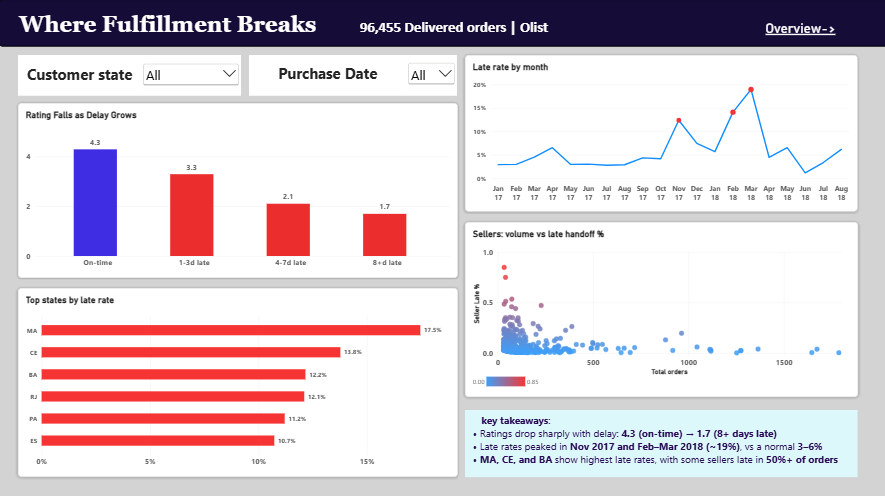

What the dashboard file says about the page in this screenshot:
{"tool":"powerbi","page":{"name":"Where, when and who","canvas":[1920,1080],"ordinal":1},"visuals":[{"type":"textbox","box":[0,0,1920,103],"z":0},{"type":"slicer","fields":{"Values":["orders.customer_state"]},"box":[306.3,120,216.2,87.5],"z":0,"group":"g1"},{"type":"actionButton","title":"Overview->","box":[1609.2,41,244.1,45],"z":1000},{"type":"textbox","box":[40,120,266.3,87.5],"z":1000,"group":"g1"},{"type":"clusteredColumnChart","title":"Rating Falls as Delay Grows","fields":{"Category":["orders.late_bucket"],"Y":["orders.Avg Rating"]},"box":[40,225,950,377.5],"z":2000},{"type":"lineChart","title":"Late rate by month","fields":{"Category":["orders.YearMonth"],"Y":["orders.Late Rate"]},"box":[1007.5,120,847.5,337.5],"z":3000},{"type":"clusteredBarChart","title":"Top states by late rate","fields":{"Category":["orders.customer_state"],"Y":["orders.Late Rate"]},"box":[40,625,950,407.5],"z":4000},{"type":"scatterChart","title":"Sellers: volume vs late handoff %","fields":{"Category":["orders.seller_id"],"X":["orders.Total orders"],"Y":["orders.Seller Late %"]},"box":[1006.6,481.7,848.9,378],"z":5000},{"type":"group","id":"g1","title":"Group 1","box":[40,120,482.5,87.5],"z":6000},{"type":"slicer","fields":{"Values":["orders.YearMonth"]},"box":[880,120.9,110,87.5],"z":6001,"group":"g3"},{"type":"textbox","box":[540,120.9,340,87.5],"z":6002,"group":"g3"},{"type":"group","id":"g2","title":"Group 2","box":[540,120.9,450,87.5],"z":6003},{"type":"group","id":"g3","title":"Group 4","box":[540,120.9,450,87.5],"z":6004,"group":"g4"},{"type":"group","id":"g4","title":"Group 3","box":[540,120.9,450,87.5],"z":6004,"group":"g2"},{"type":"textbox","box":[1007.5,887.5,847.5,145],"z":6004}]}

Visuals, with their boxes in screenshot pixels (x1, y1, x2, y2), scaled from the page's 1920x1080 canvas onto the 885x496 screenshot:
textbox: [0,0,884,47]
slicer - orders.customer_state: [141,55,241,95]
"Overview->" actionButton: [742,19,854,39]
textbox: [18,55,141,95]
"Rating Falls as Delay Grows" clusteredColumnChart: [18,103,456,277]
"Late rate by month" lineChart: [464,55,855,210]
"Top states by late rate" clusteredBarChart: [18,287,456,474]
"Sellers: volume vs late handoff %" scatterChart: [464,221,855,395]
"Group 1" group: [18,55,241,95]
slicer - orders.YearMonth: [406,56,456,96]
textbox: [249,56,406,96]
"Group 2" group: [249,56,456,96]
"Group 4" group: [249,56,456,96]
"Group 3" group: [249,56,456,96]
textbox: [464,408,855,474]
